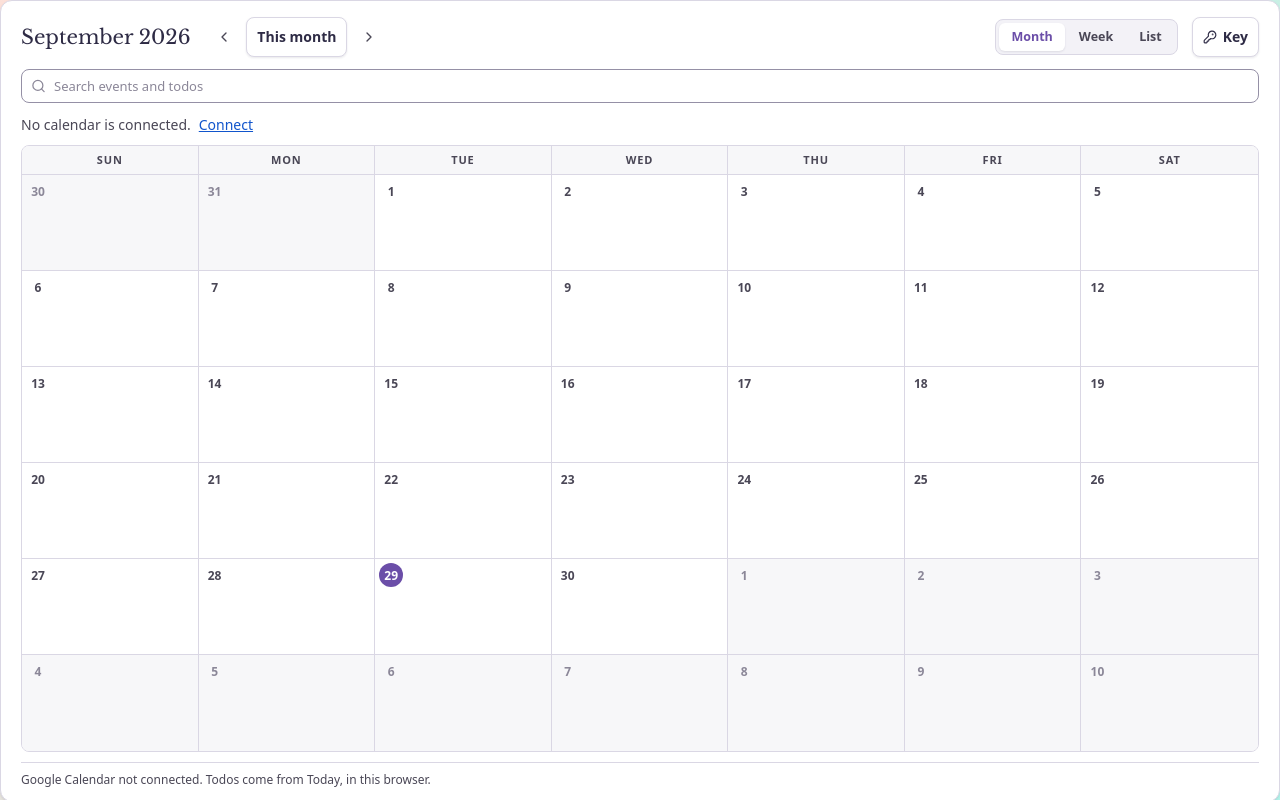
Test: the full calendar, ported from the technical instructions master calendar › has a colour key that names every colour
Click the button "Key". click: (1225, 37)
box: [1192,17,1259,57]
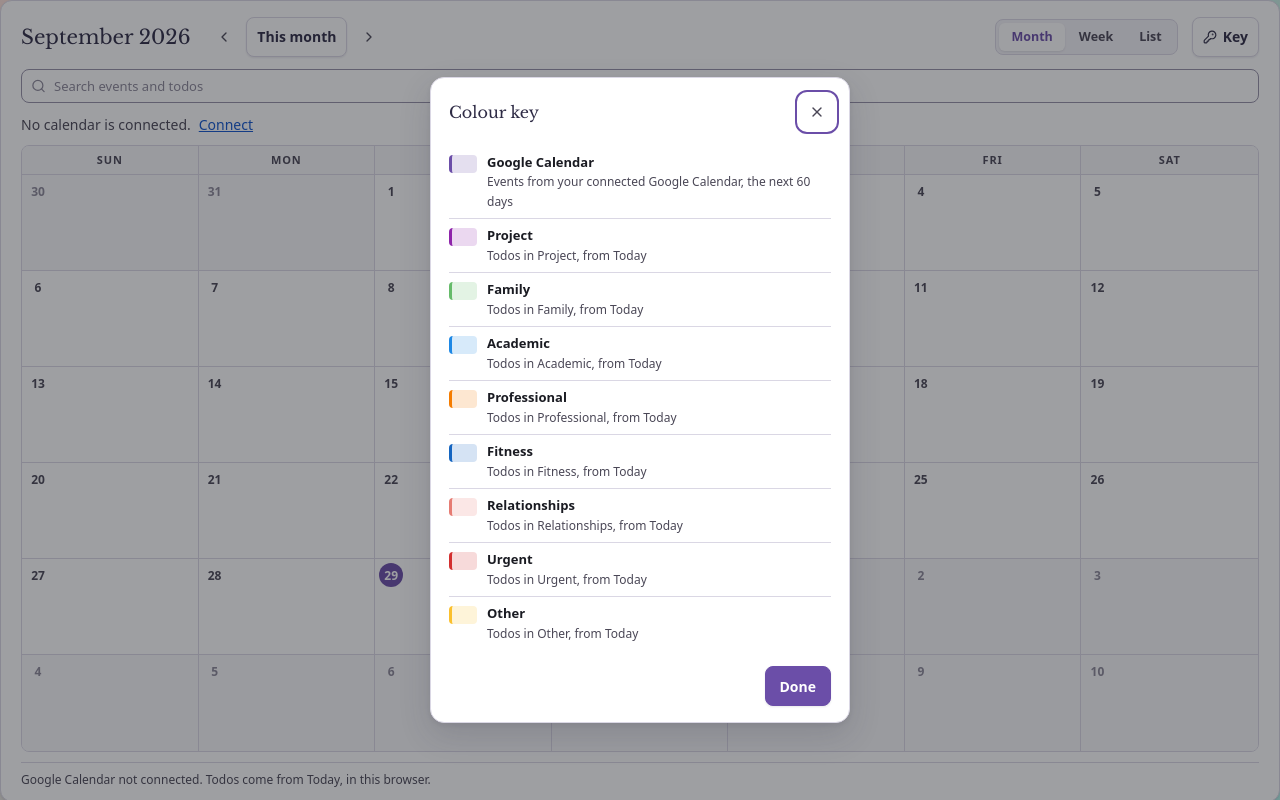
Result: the dialog "Colour key" shows "Google Calendar" at [487,153,594,171]
Result: the dialog "Colour key" shows "Project" at [487,226,533,244]
Result: the dialog "Colour key" shows "Family" at [487,280,530,298]
